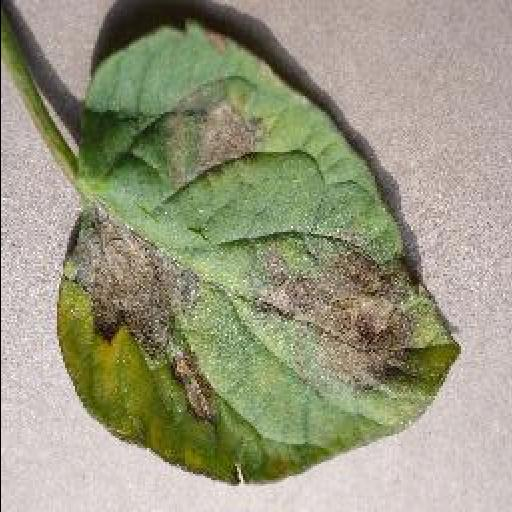disease_tomato: (55, 22, 461, 488)
